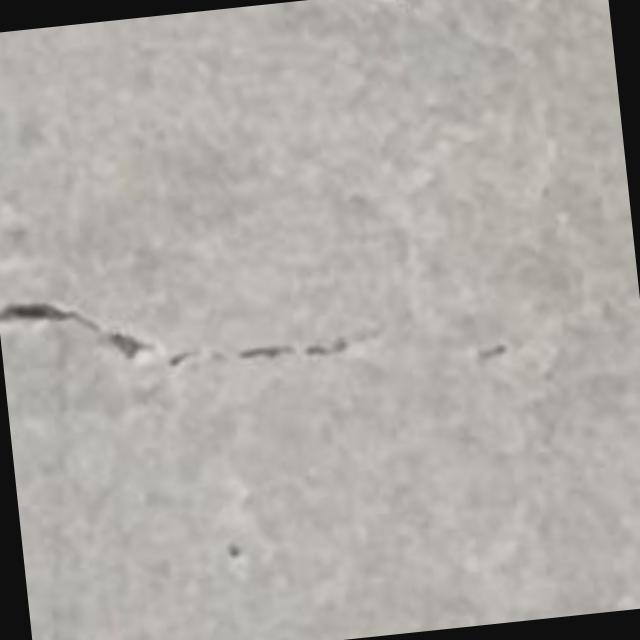crack: (161, 331, 377, 365)
